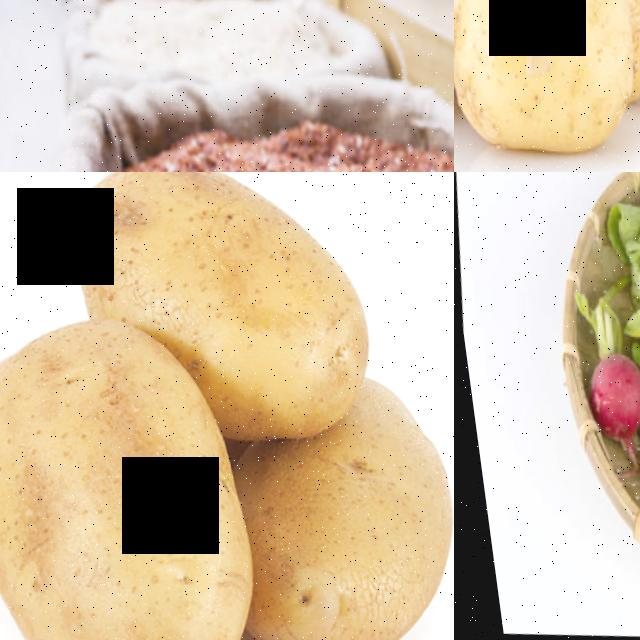potato: (0, 301, 274, 640), (59, 172, 384, 451), (214, 424, 454, 640), (454, 0, 640, 171)
radishes: (565, 315, 640, 516)
